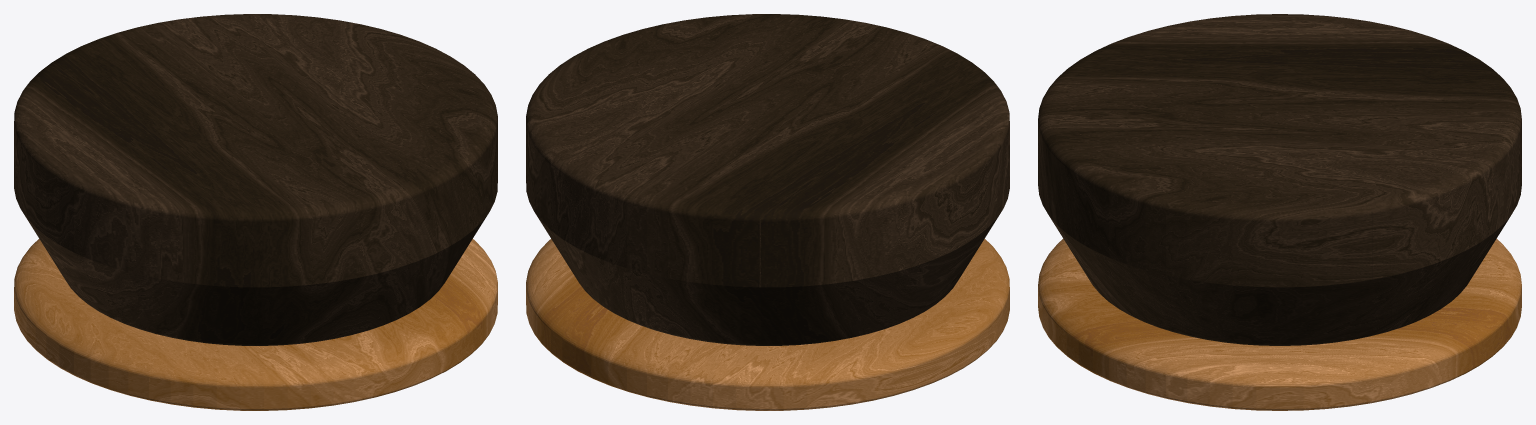
The model's file is dark_pawn.fbx.
The picture shows the model from 3 angles, left to right: view 1: azimuth 30°, elevation 25°; view 2: azimuth 150°, elevation 25°; view 3: azimuth 270°, elevation 25°; orthographic projection.
Visible parts, largest first — view 1: PedestalTopPart, PedestalBottomPart; view 2: PedestalTopPart, PedestalBottomPart; view 3: PedestalTopPart, PedestalBottomPart.
Boxes of the visible parts, x1,y1,x2,y2 form: PedestalTopPart: (14, 14, 497, 345); PedestalBottomPart: (14, 239, 497, 410); PedestalTopPart: (526, 14, 1009, 345); PedestalBottomPart: (526, 239, 1009, 410); PedestalTopPart: (1038, 14, 1521, 345); PedestalBottomPart: (1038, 238, 1521, 410).
Size of the model in its own units: 15 by 6.92 by 15.
2 materials, 2 textured.
